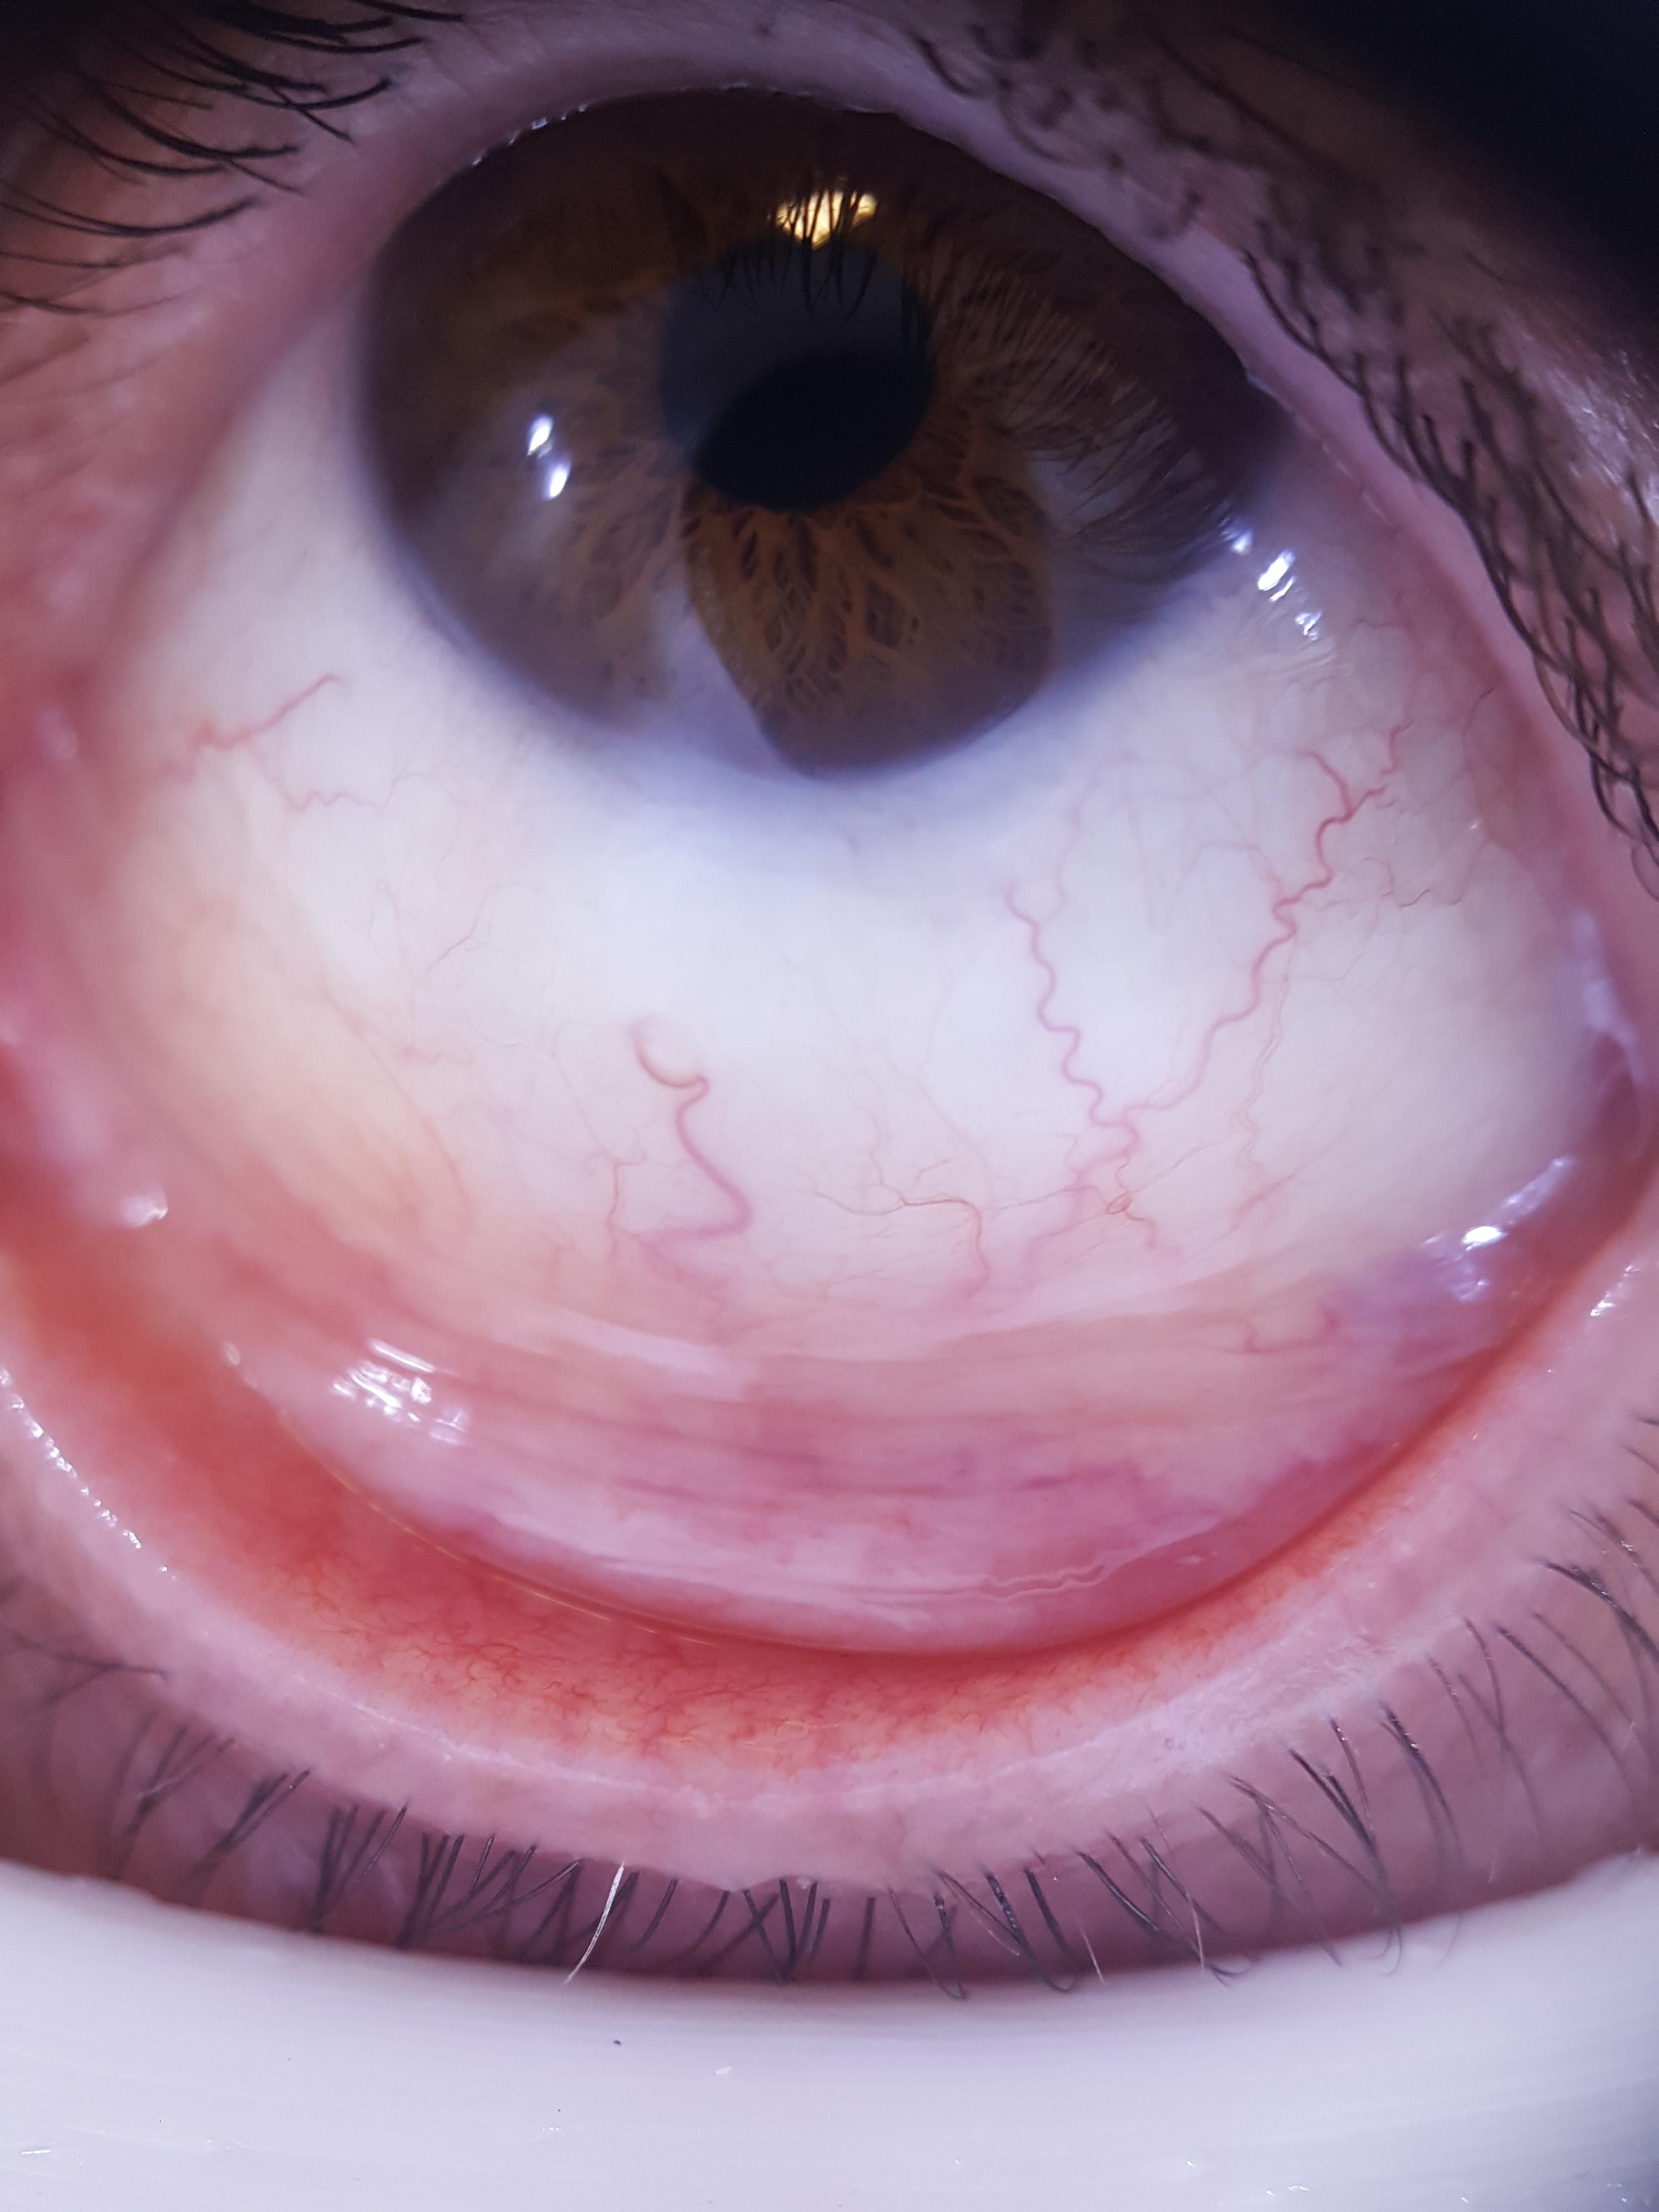forniceal: (3, 1005, 1553, 1649)
forniceal_palpebral: (0, 995, 1619, 1787)
palpebral: (3, 1015, 1607, 1771)
